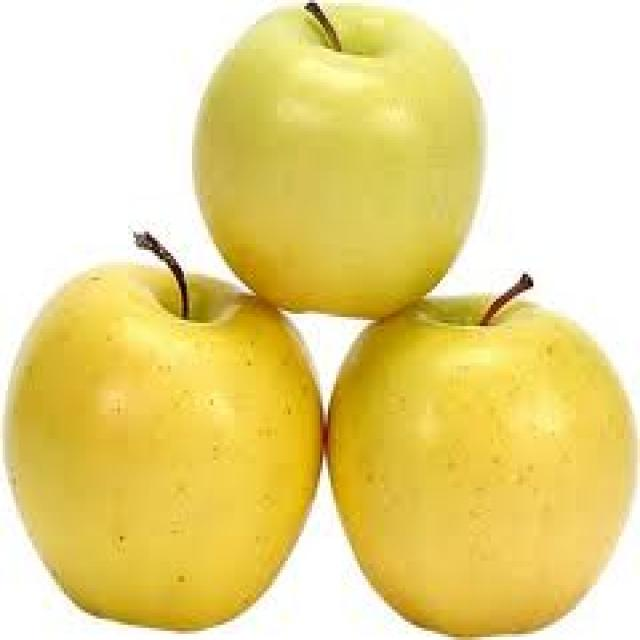apples: (5, 0, 638, 637)
